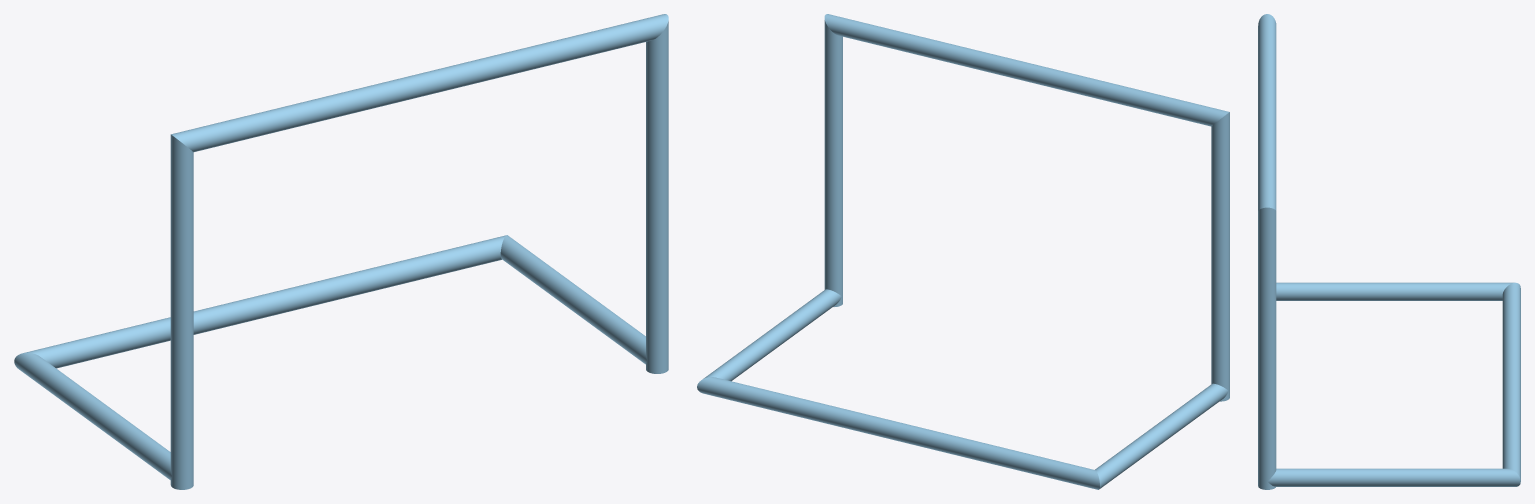
File: hockey_goal.dae
3 renders of one model, left to right at view 1: azimuth 30°, elevation 25°; view 2: azimuth 150°, elevation 25°; view 3: azimuth 270°, elevation 25°, orthographic. The views are drawn at different scales.
Visible parts, largest first — view 1: ID2; view 2: ID2; view 3: ID2.
Part boxes in pixels (bbox=[...]): ID2: bbox=[14, 14, 668, 489]; ID2: bbox=[697, 14, 1229, 489]; ID2: bbox=[1258, 14, 1520, 489].
Bounding box in the file's own units: 1.9 × 1.09 × 1.3.
